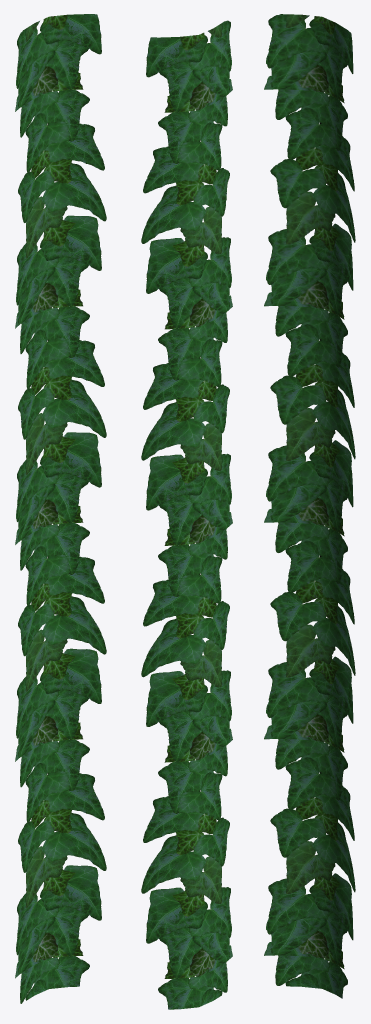
Rendered from Veins_01.obj.
3 views of the same model, side by side, from view 1: azimuth 30°, elevation 25°; view 2: azimuth 210°, elevation 25°; view 3: azimuth 330°, elevation 25° (orthographic).
Parts seen in each view (by area): view 1: polySurface41; view 2: polySurface41; view 3: polySurface41.
Part boxes in pixels (x1,y1,x2,y2): polySurface41: (15,14,106,1003); polySurface41: (141,20,232,1009); polySurface41: (264,14,355,998).
Bounding box in the file's own units: 1.36 × 13.33 × 0.3228.
1 material, 1 textured.
